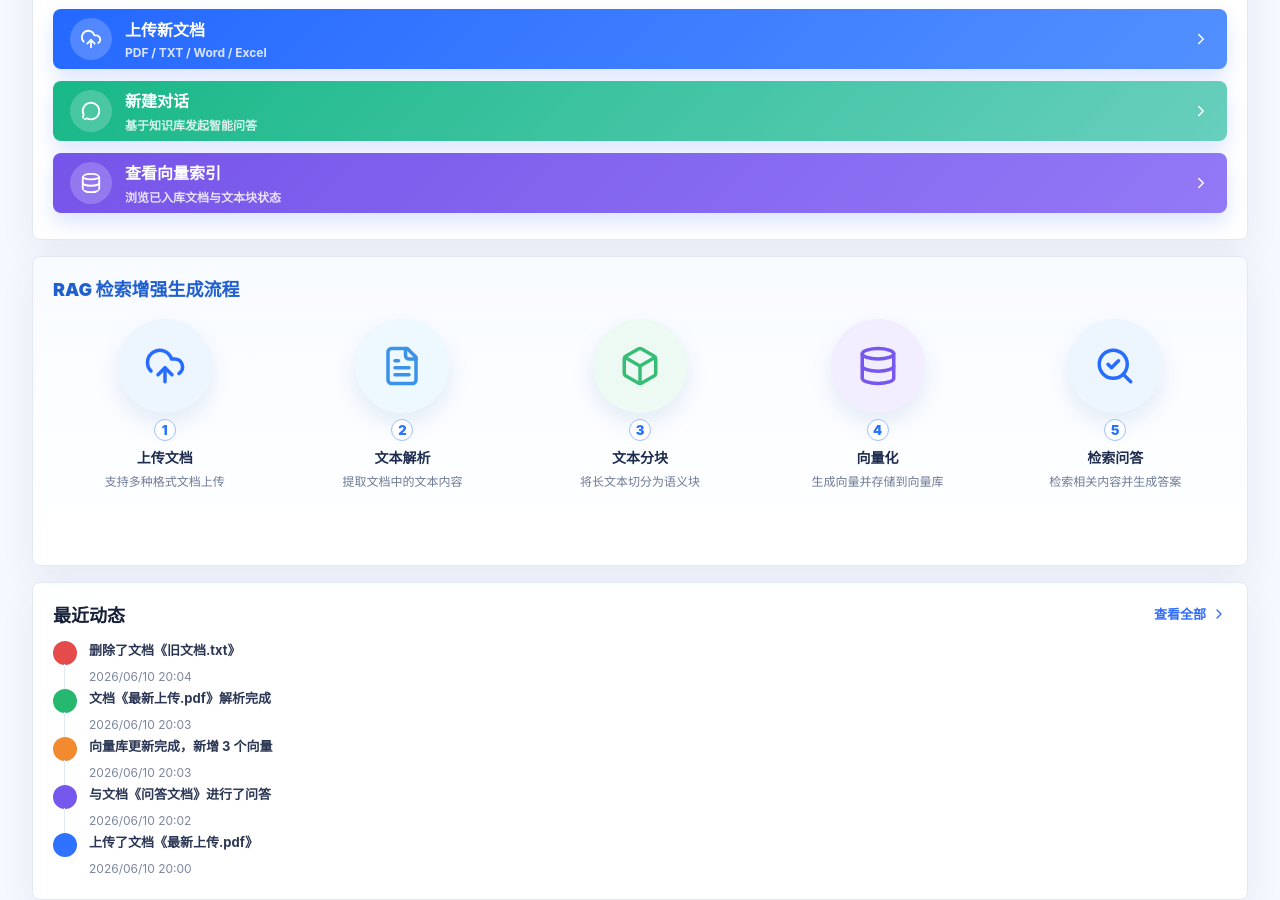
DashboardPage › opens all activity events in an in-page dialog
This screenshot has width=1280, height=900.
(page scrolled)
expect the element "最近动态" is shown: met, box [32,582,1248,899]
Click the button "查看全部" at [1190, 614], box [1154,604,1227,623]
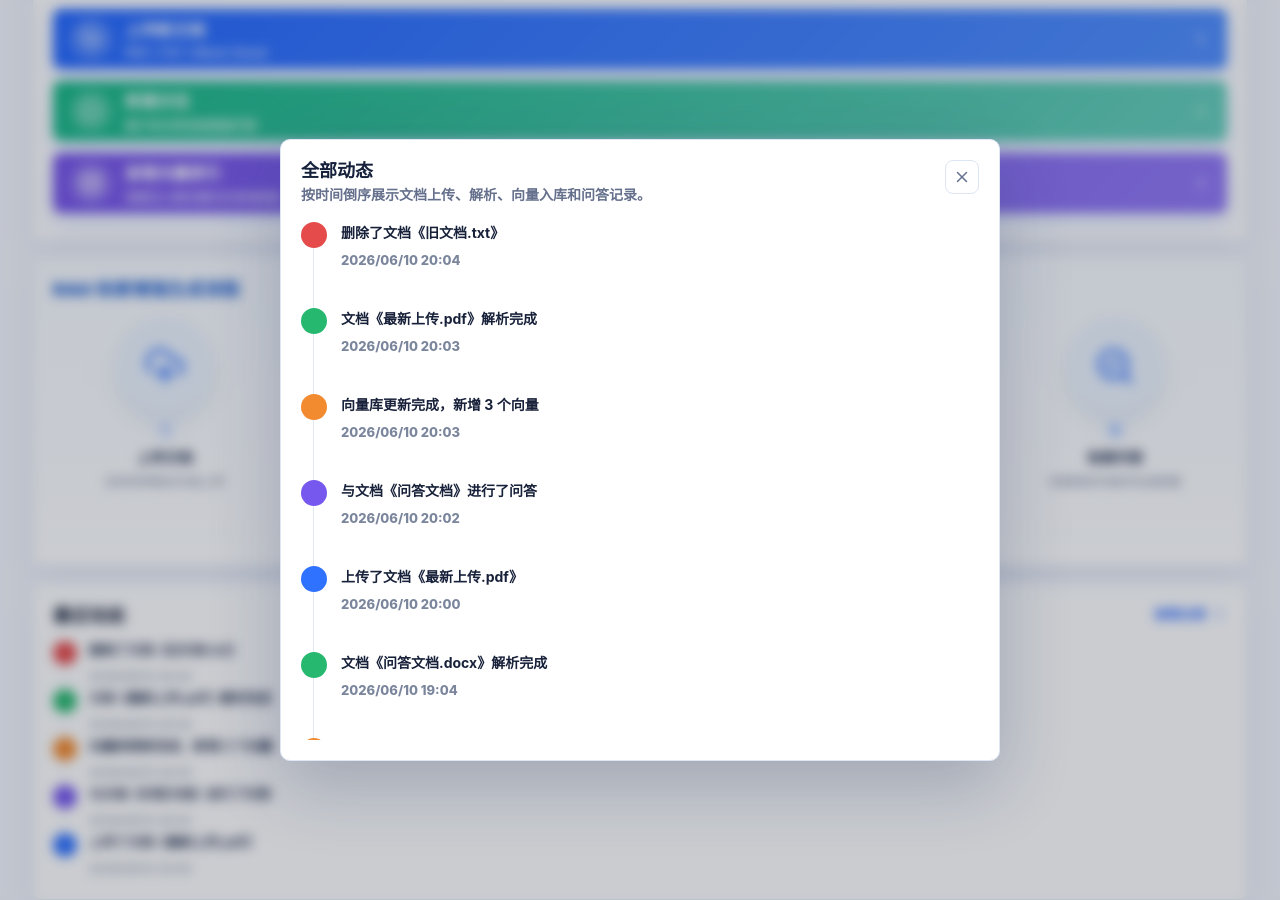
expect the text "删除了文档《旧文档.txt》" is shown: met, box [341,224,504,241]
Click the button named "关闭全部动态" at [962, 177], box [945,160,979,194]
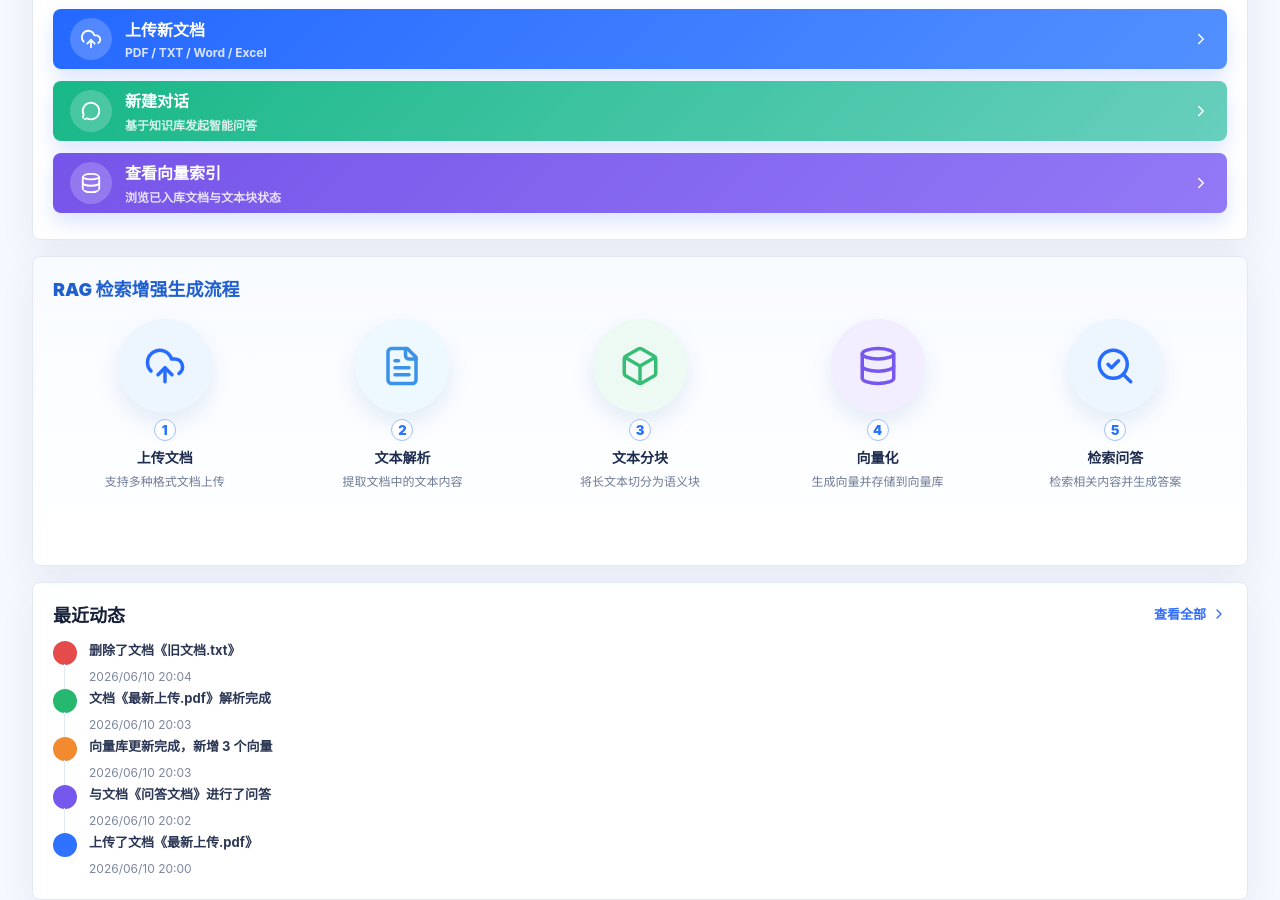
expect the heading "全部动态" is gone: met
